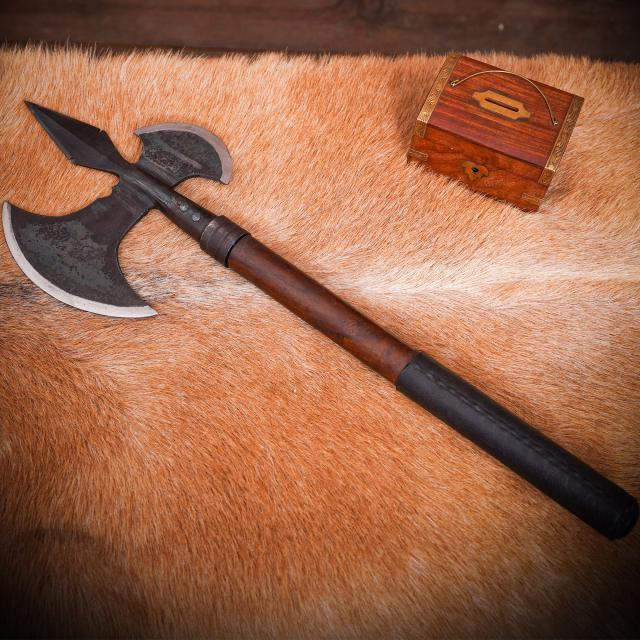axe: (4, 99, 634, 539)
